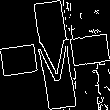M_N: (28, 27, 82, 83)
